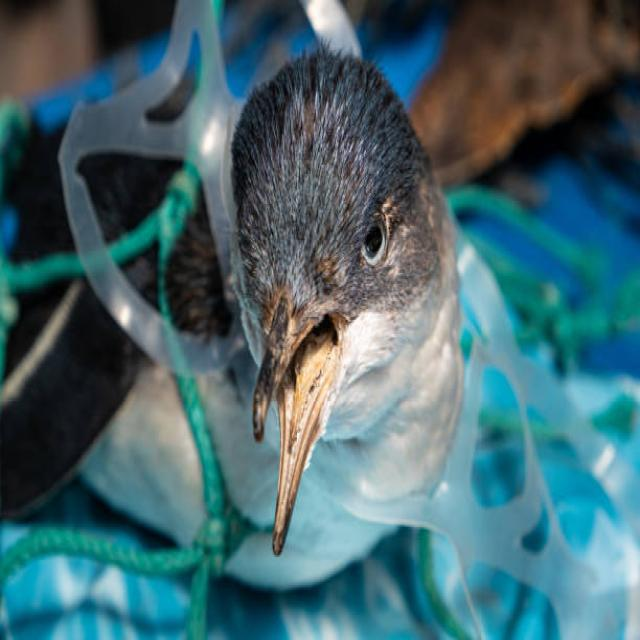plastic: (466, 386, 635, 630)
